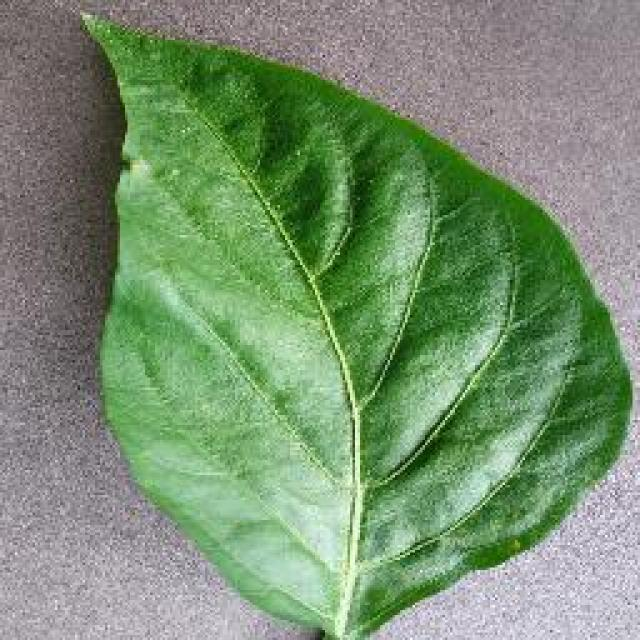Chilli_Healthy: (77, 8, 635, 638)
